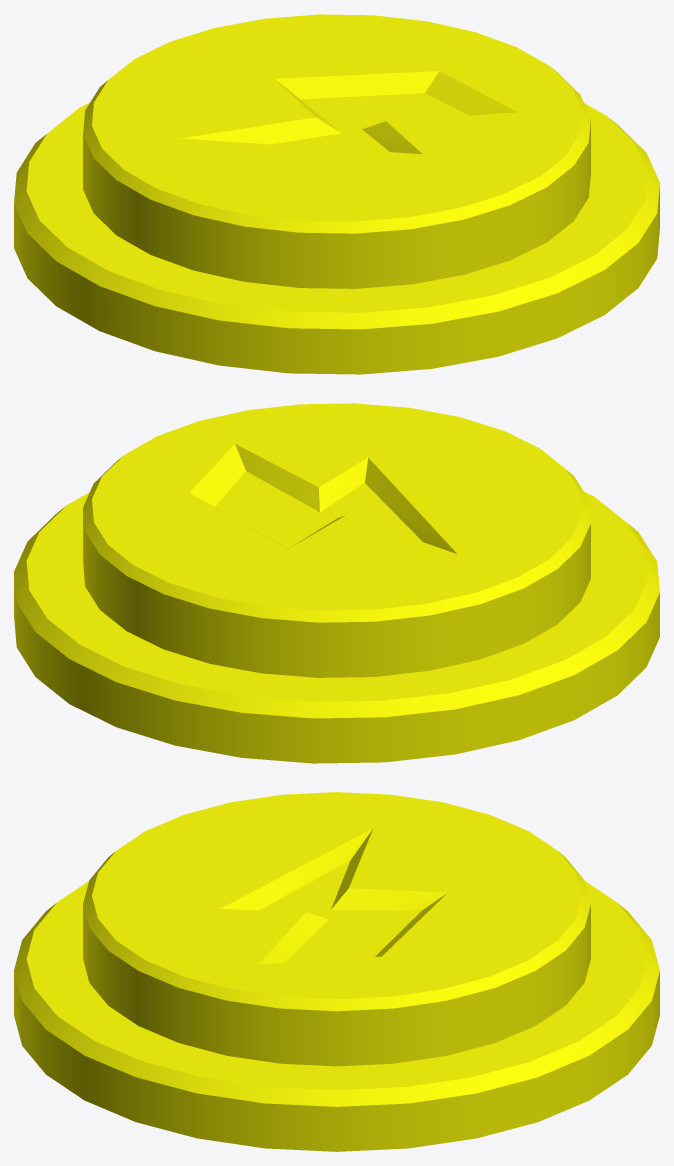
The picture shows the model from 3 angles, top to bottom: view 1: azimuth 30°, elevation 25°; view 2: azimuth 150°, elevation 25°; view 3: azimuth 270°, elevation 25°; orthographic projection.
Parts seen in each view (by area): view 1: ButtonOnly, Button_base; view 2: ButtonOnly, Button_base; view 3: ButtonOnly, Button_base.
Boxes of the visible parts, x1,y1,x2,y2 form: ButtonOnly: (83,14,590,288); Button_base: (14,102,659,374); ButtonOnly: (83,403,590,677); Button_base: (14,491,659,763); ButtonOnly: (83,792,590,1066); Button_base: (14,881,659,1151).
Bounding box in the file's own units: 0.012 × 0.00244 × 0.012.
1 material, 1 textured.
